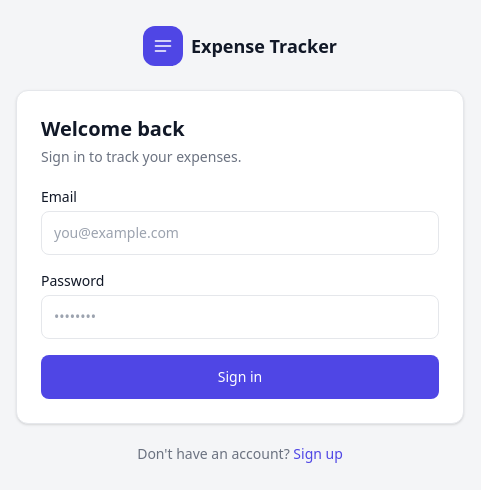
Login › blocks submit and shows a message for an invalid email
Type "not-an-email" into the field labelled "Email".
click(240, 233); type("not-an-email")  # box [41,211,439,255]
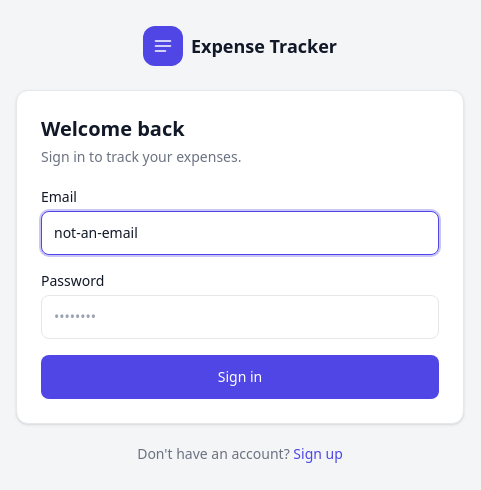
Type "secret" into the password field labelled "Password".
click(240, 317); type("secret")  # box [41,295,439,339]
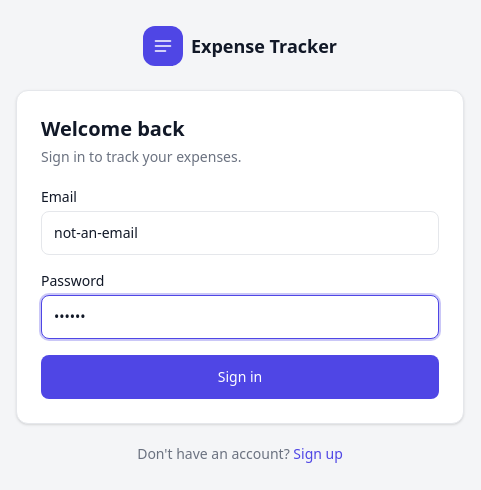
Click the button "Sign in".
click(240, 377)  # box [41,355,439,399]
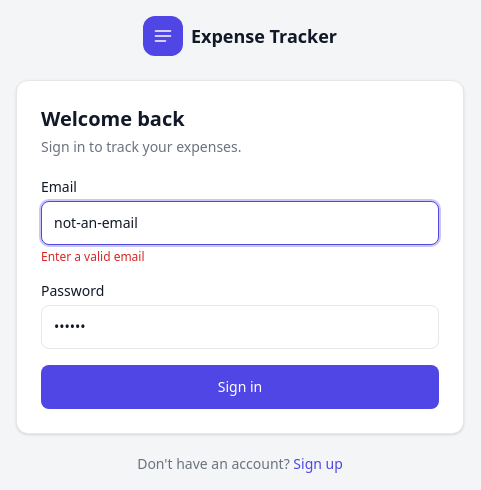
Expected: the text "Enter a valid email" is shown, [41,248,145,265]
